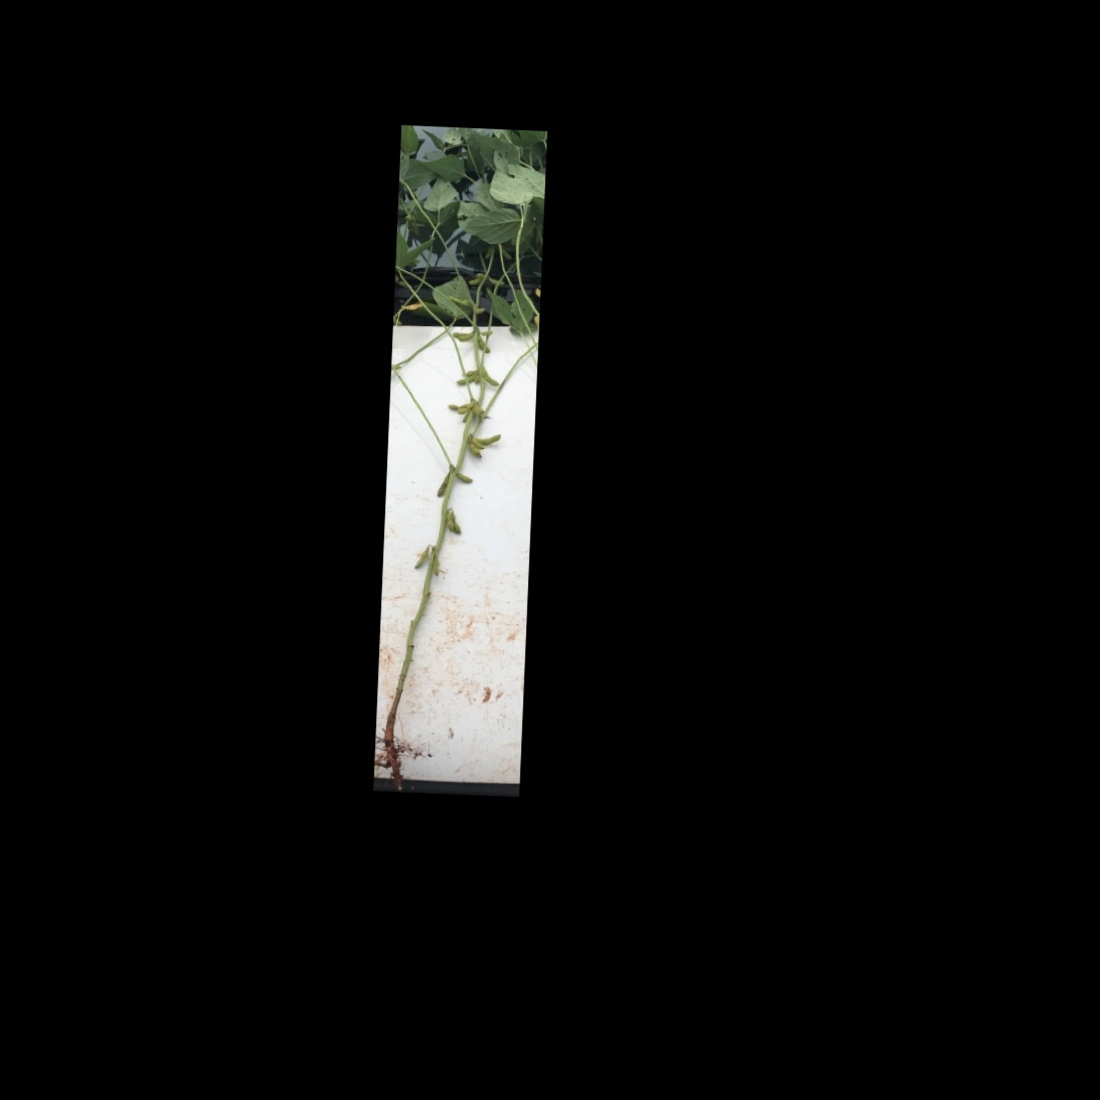pod: (412, 544, 430, 572), (482, 367, 504, 389), (452, 468, 480, 486), (475, 330, 494, 354), (464, 435, 487, 452), (484, 276, 510, 290), (467, 441, 484, 460)
soy: (381, 129, 541, 785)
